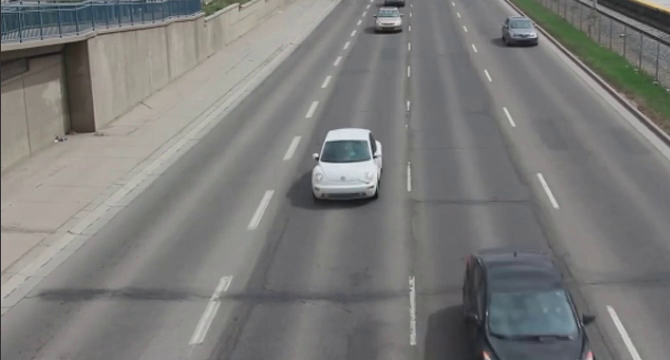car: (464, 240, 581, 358), (309, 128, 387, 204), (497, 15, 541, 49), (372, 7, 405, 34)
